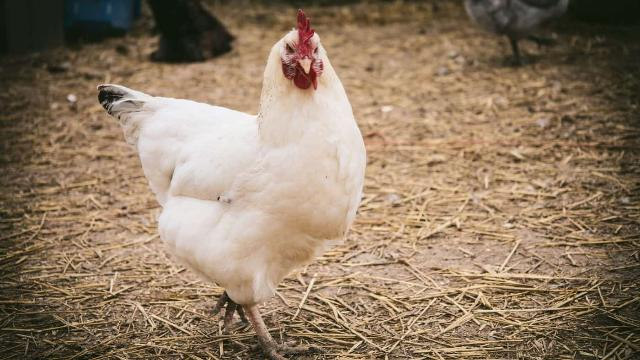Chicken: (96, 7, 368, 360)
